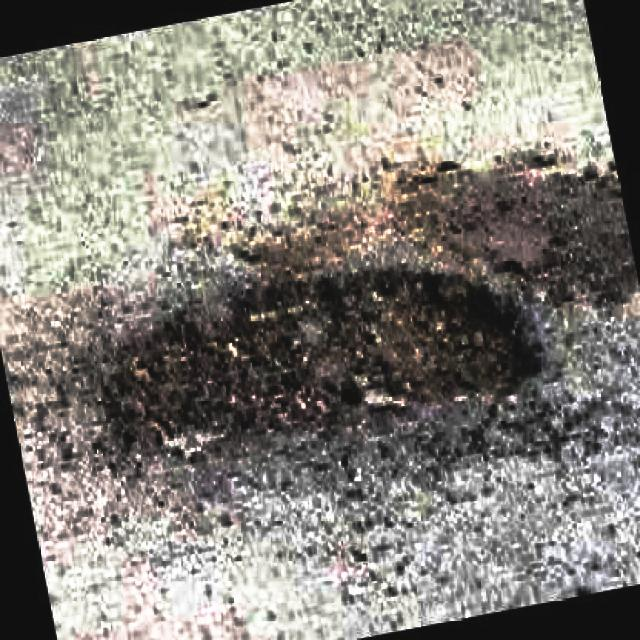pothole: (96, 270, 550, 468)
